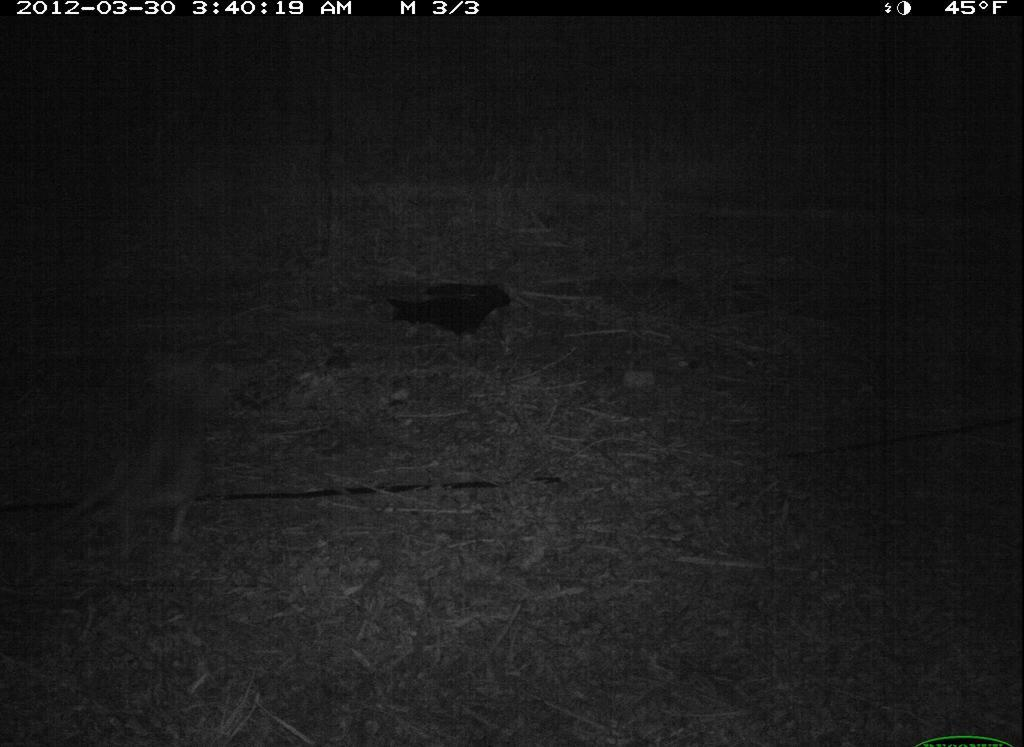coyote: (48, 351, 241, 562)
